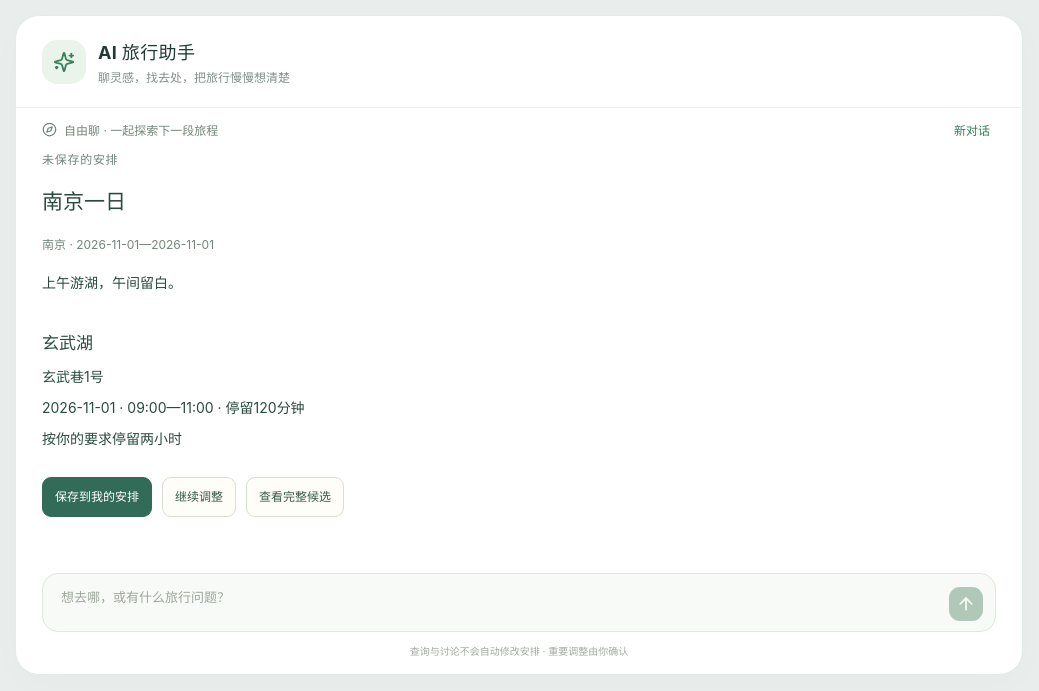
Test: sends exactly the published binding and shows saving until confirmed
The width and height of the screenshot is (1039, 691).
(page scrolled)
Click the button "保存到我的安排" at (97, 497), box top-left (42, 477), bottom-right (152, 517)
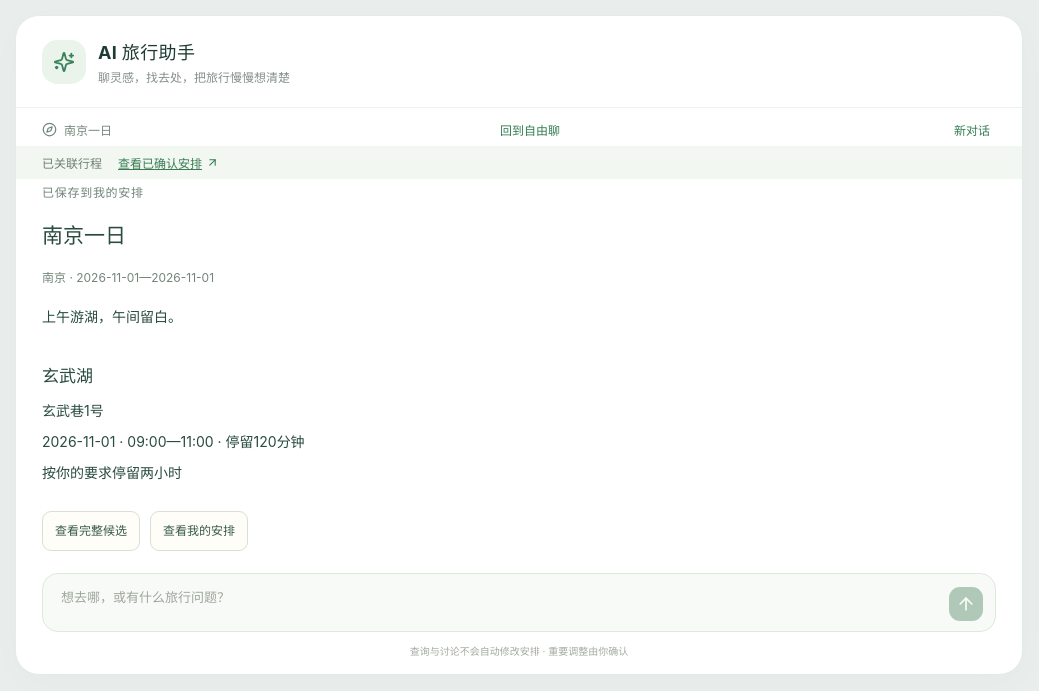
Expected: the text "正在保存到我的安排" is shown, top-left (42, 185), bottom-right (144, 200)
Result: the link "查看我的安排" is shown at top-left (150, 511), bottom-right (248, 551)
